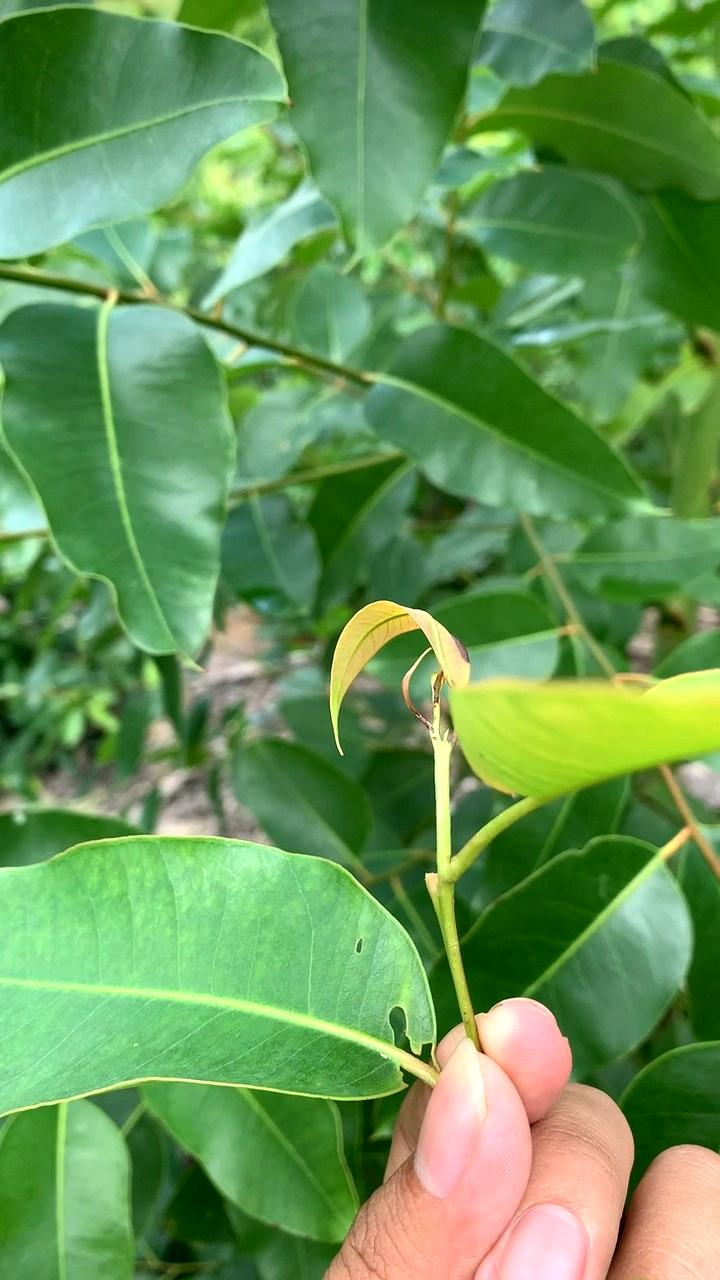Helopeltis-Withered Sprout: (301, 576, 571, 779)
